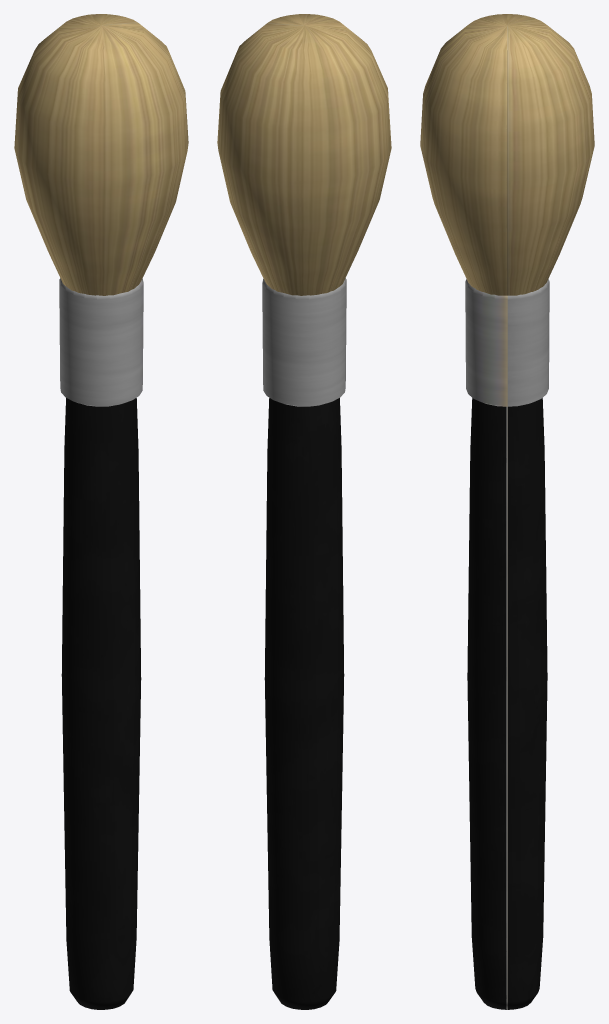
File: FingerprintBrush.obj
3 views of the same model, side by side, from view 1: azimuth 30°, elevation 25°; view 2: azimuth 150°, elevation 25°; view 3: azimuth 270°, elevation 25° (orthographic).
Visible parts, largest first — view 1: BrushAtlas; view 2: BrushAtlas; view 3: BrushAtlas.
Part boxes in pixels (x1,y1,x2,y2): BrushAtlas: (14, 14, 188, 1009); BrushAtlas: (217, 14, 391, 1009); BrushAtlas: (420, 14, 594, 1009).
Size of the model in its own units: 0.0244 by 0.1505 by 0.0244.
1 material, 1 textured.
